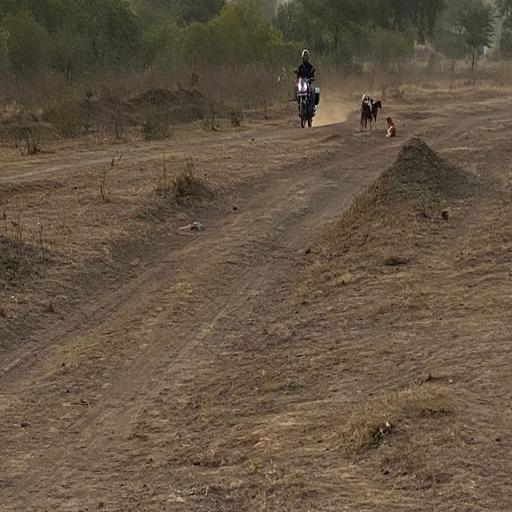vehicle_track: (0, 139, 407, 512)
